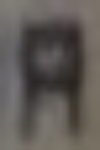YA_RUS: (0, 0, 99, 149)
